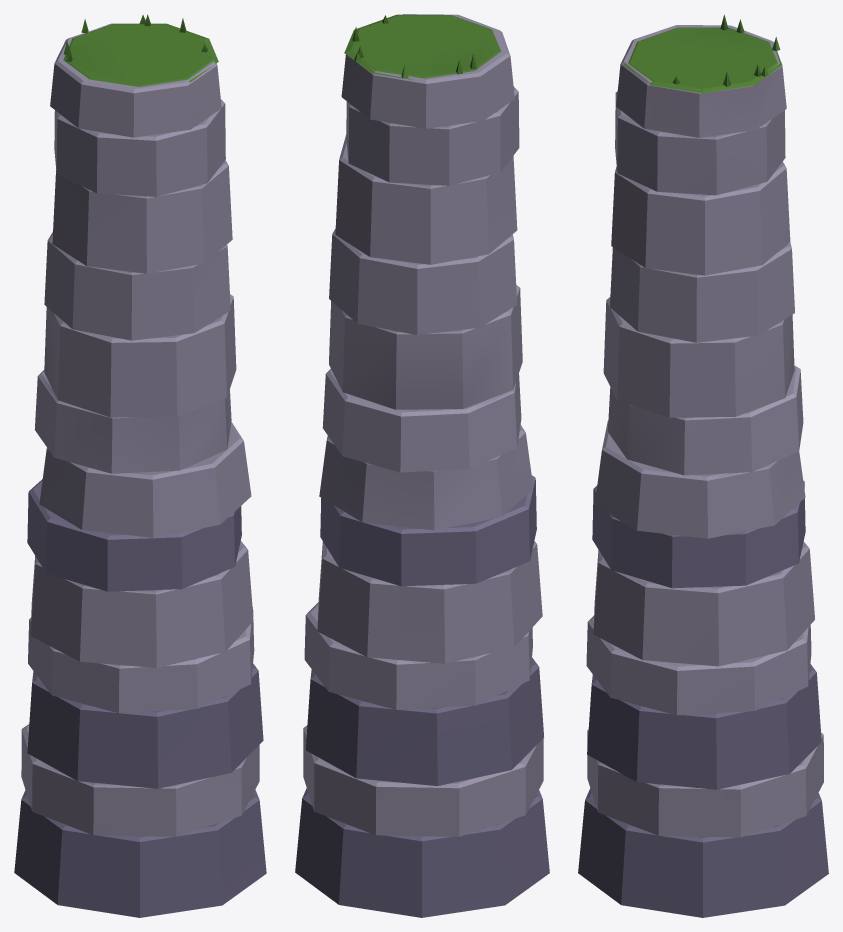
File: g_pillar.glb
3 renders of one model, left to right at view 1: azimuth 30°, elevation 25°; view 2: azimuth 150°, elevation 25°; view 3: azimuth 270°, elevation 25°, orthographic.
Parts seen in each view (by area): view 1: g_pillar; view 2: g_pillar; view 3: g_pillar.
Boxes of the visible parts, left/top/right/bottom form: g_pillar: left=14, top=14, right=266, bottom=917; g_pillar: left=295, top=14, right=549, bottom=917; g_pillar: left=578, top=14, right=828, bottom=917.
Bounding box in the file's own units: 3.56 × 12.98 × 3.6.
